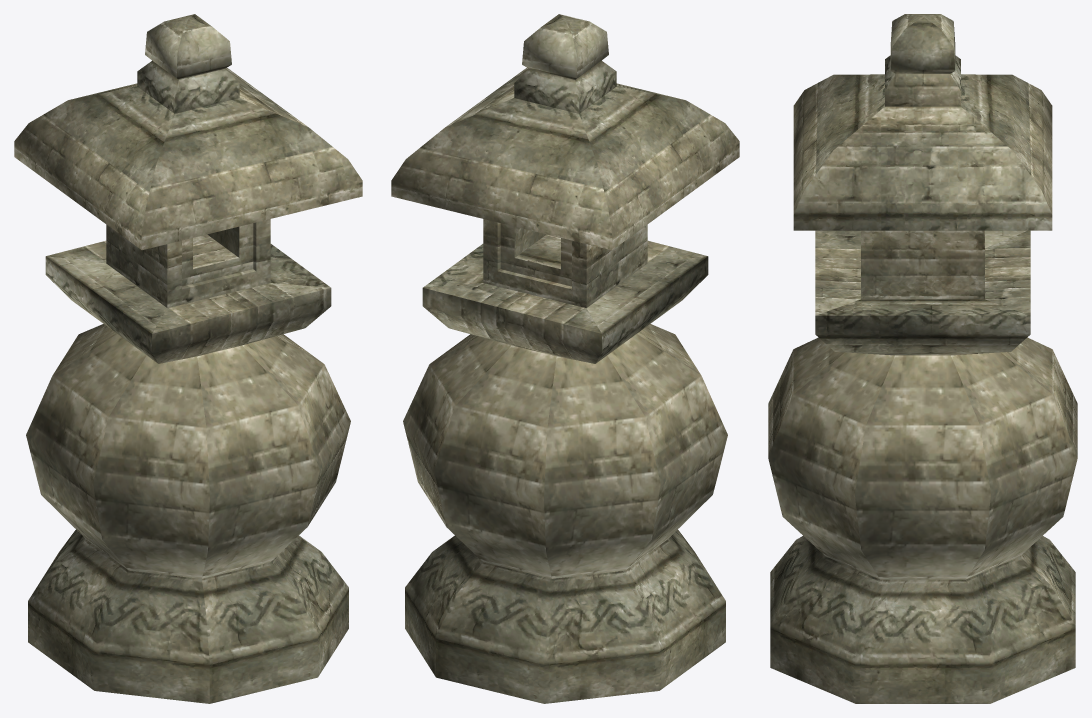
The model's file is environment_common_shideng_002_a.FBX.
3 views of the same model, side by side, from view 1: azimuth 30°, elevation 25°; view 2: azimuth 150°, elevation 25°; view 3: azimuth 270°, elevation 25° (orthographic).
Parts seen in each view (by area): view 1: environment_common_shideng_002_a; view 2: environment_common_shideng_002_a; view 3: environment_common_shideng_002_a.
Part boxes in pixels (bbox=[...]): environment_common_shideng_002_a: bbox=[14, 14, 362, 703]; environment_common_shideng_002_a: bbox=[391, 14, 739, 703]; environment_common_shideng_002_a: bbox=[768, 14, 1077, 703].
Size of the model in its own units: 59.87 by 137 by 61.43.
